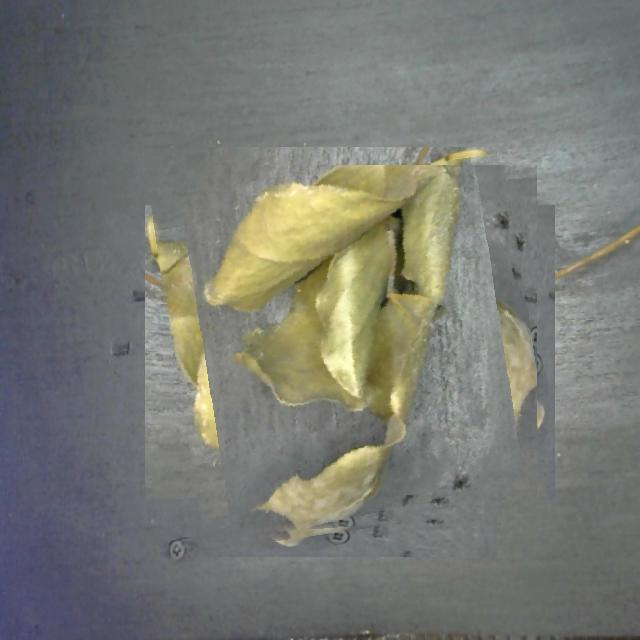biodegradable: (163, 165, 537, 540)
